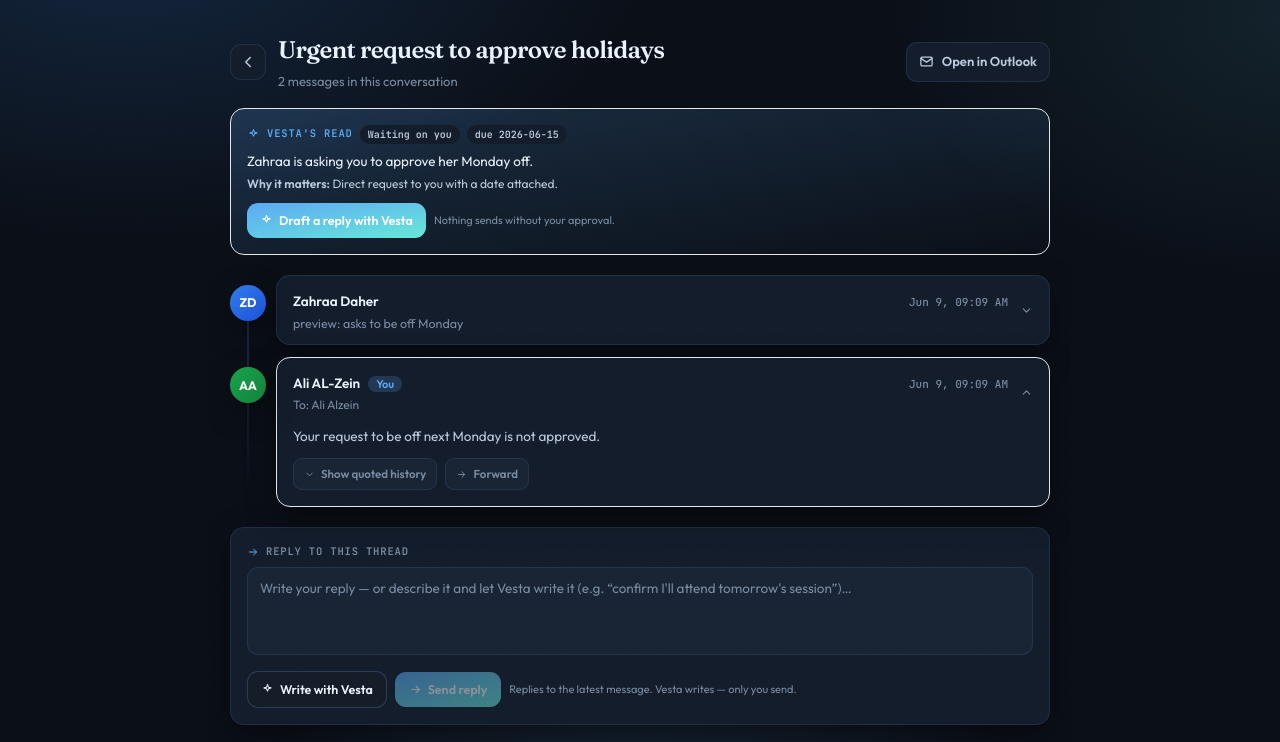
Scenario: ThreadView › expands a collapsed message on click, and reveals quoted history behind its toggle
// Expand the first (collapsed) message via its header row.
What coordinates should you click on to do the following:
click the button "Zahraa Daher preview: asks to be off Monday Jun 9, 09:09 AM"
I would click on:
 (336, 301)
Its box is x1=277 y1=276 x2=1049 y2=344.
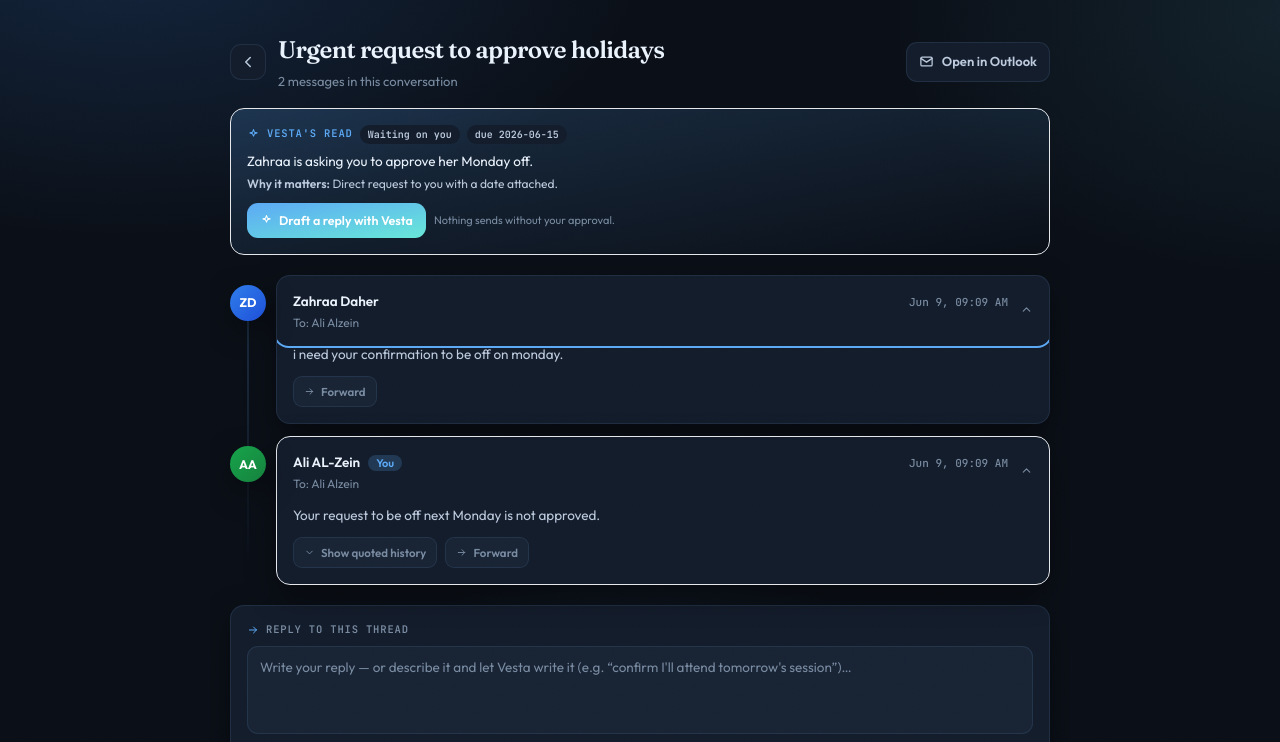
Expected: the text "From: Zahraa" is not shown
Expected: the text "i need your confirmation to be off on monday." is shown, x1=293 y1=345 x2=564 y2=363
What coordinates should you click on to do the following:
click the button "Show quoted history"
I would click on:
 (365, 552)
Its box is x1=293 y1=537 x2=437 y2=568.
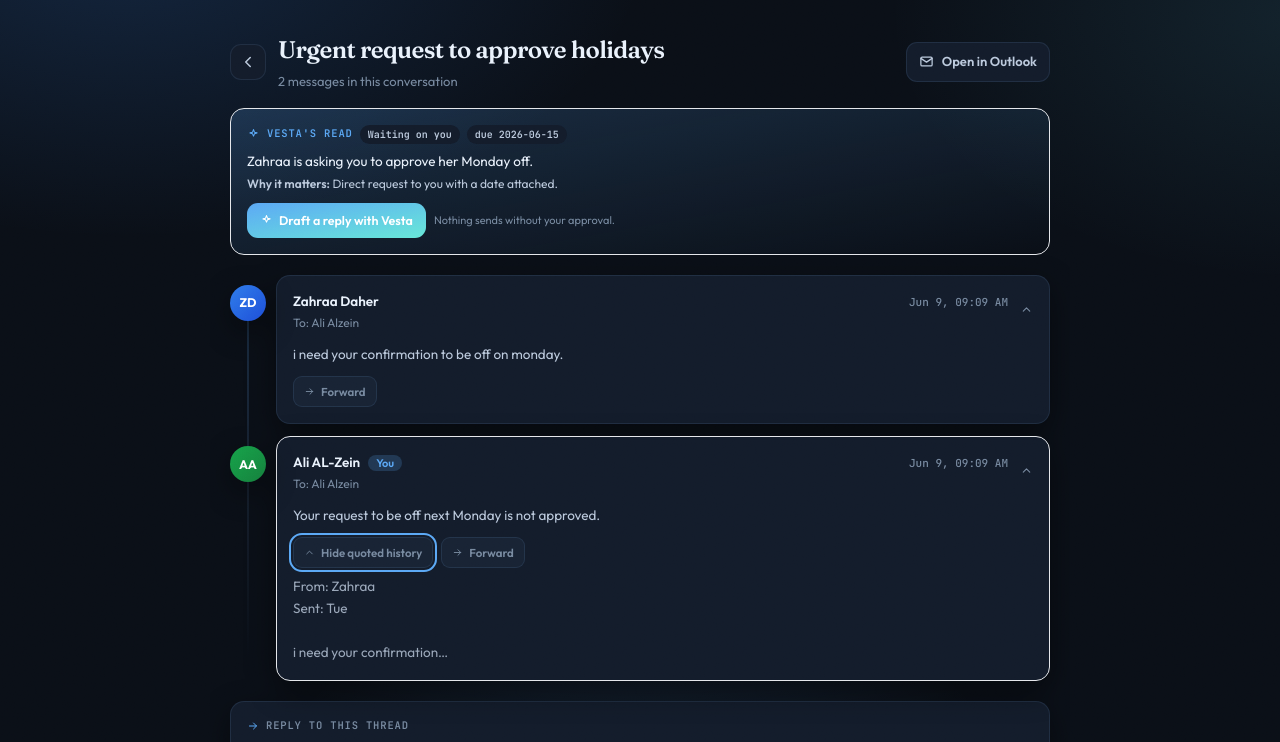
Expected: the text "From: Zahraa Sent: Tue i need your confirmation…" is shown, x1=293 y1=577 x2=448 y2=661
Expected: the button "Hide quoted history" is shown, x1=293 y1=537 x2=433 y2=568
